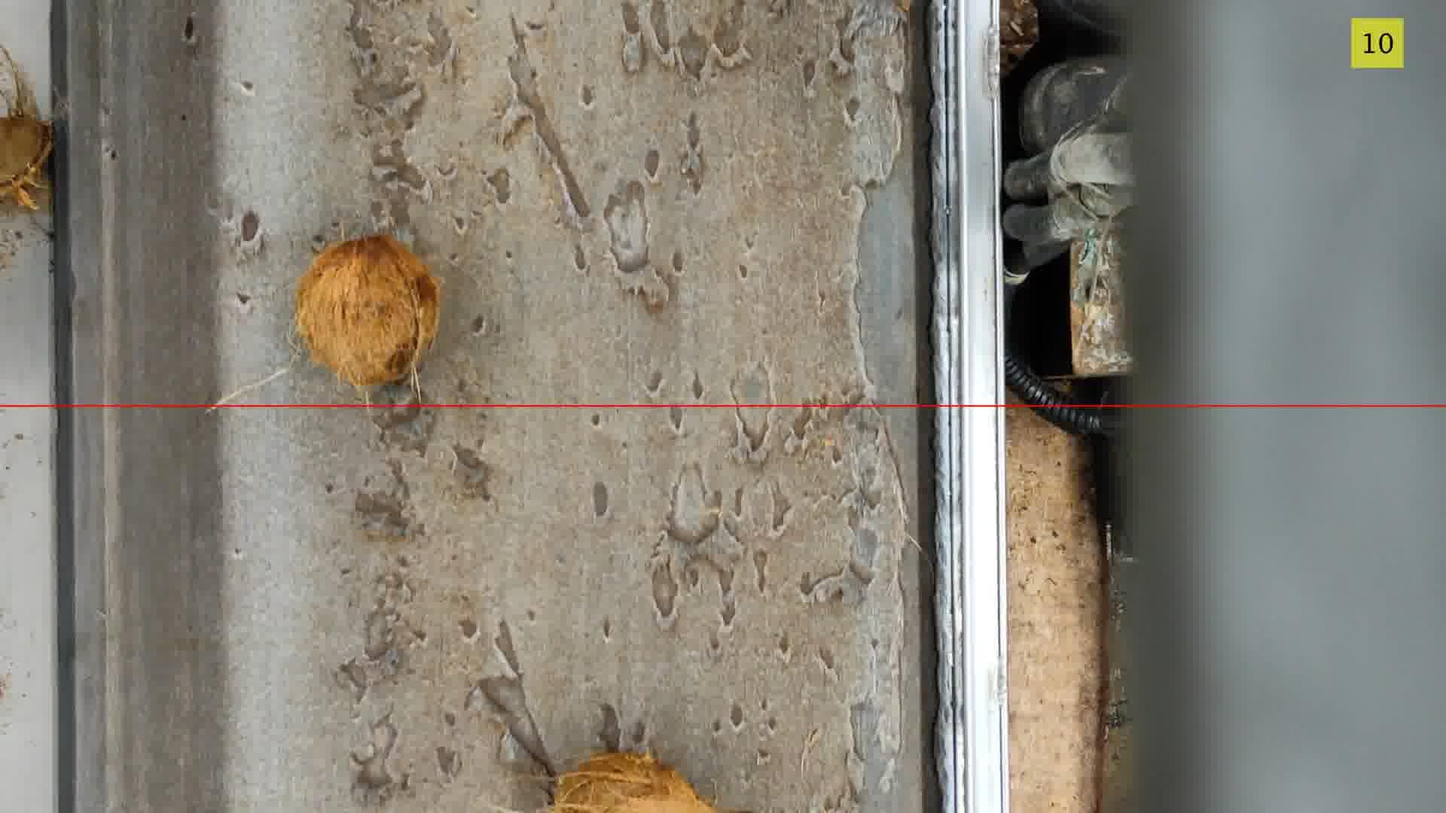Coconut: (283, 233, 443, 406), (538, 751, 738, 812), (551, 751, 718, 812), (554, 751, 718, 812), (0, 46, 54, 212)
